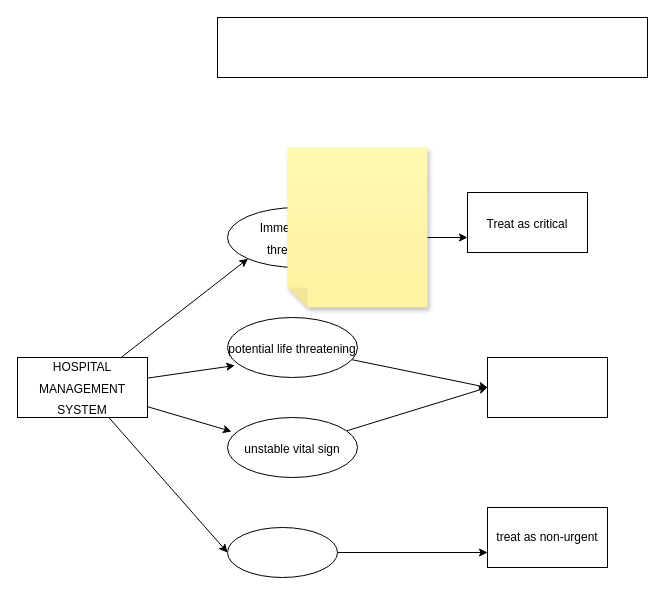
The diagram is 665 pixels wide and 595 high, and some of its shapes have lost their labels. Each missing label, with the centre of its shape:
DECISION TREE OF HOSPITAL MANAGEMENT SYSTEM: the point at 432,47
other: the point at 282,552
treat as emergency: the point at 547,387
